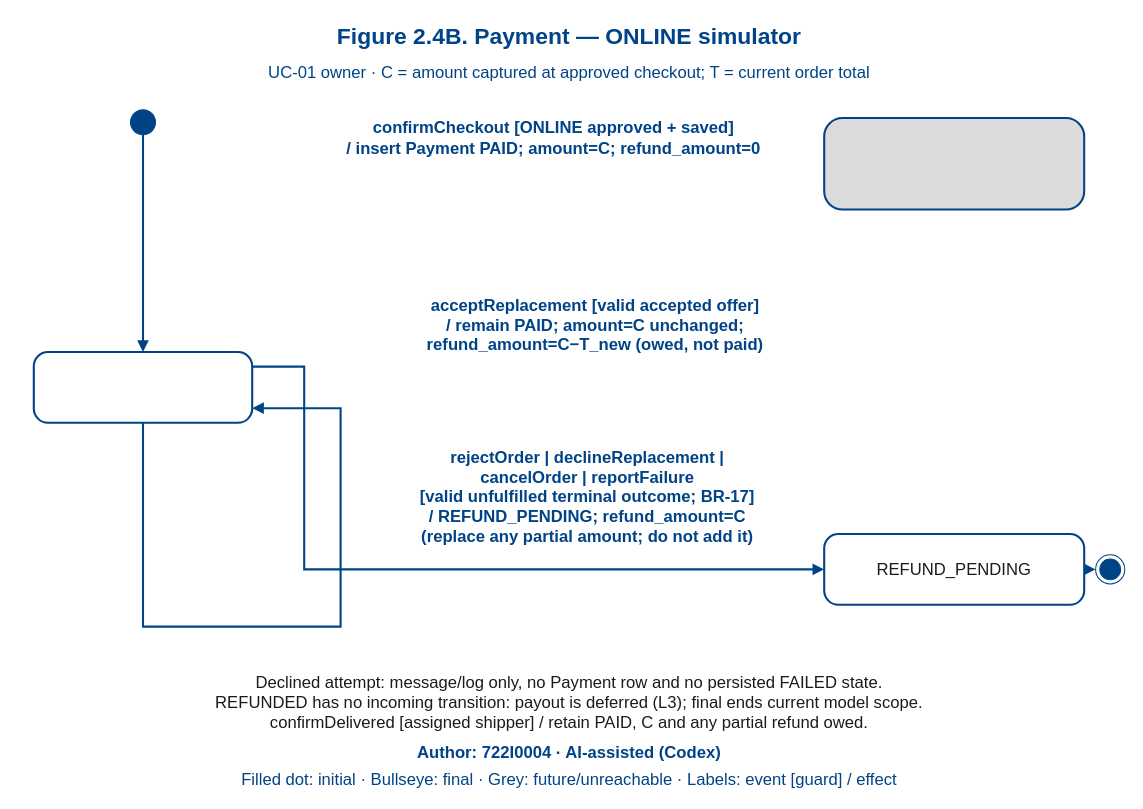
Image size: 1143x809. Some labels were removed from this diagram. The shapes that lost their labels are listed below. From the top down, each one's centre as x and y in pixels, then its label:
At pixel 954 163: "REFUNDED Future payout only".
At pixel 142 386: "PAID".
